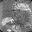people: (2, 16, 14, 26)
